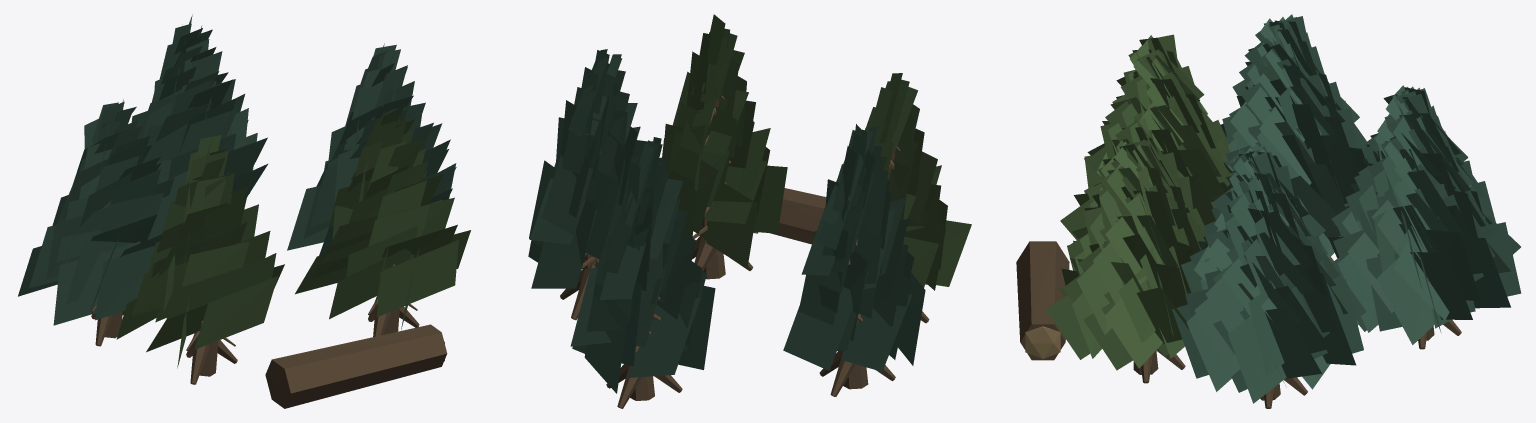
Rendered from timber_forest.glb.
The picture shows the model from 3 angles, left to right: view 1: azimuth 30°, elevation 25°; view 2: azimuth 150°, elevation 25°; view 3: azimuth 270°, elevation 25°; orthographic projection. The views are drawn at different scales.
Visible parts, largest first — view 1: world-scenery/timber_forest; view 2: world-scenery/timber_forest; view 3: world-scenery/timber_forest.
Part boxes in pixels (<box>): world-scenery/timber_forest: <box>18,14,470,408</box>; world-scenery/timber_forest: <box>528,14,971,408</box>; world-scenery/timber_forest: <box>1016,14,1521,408</box>.
Size of the model in its own units: 4.1 by 2.33 by 4.26.
